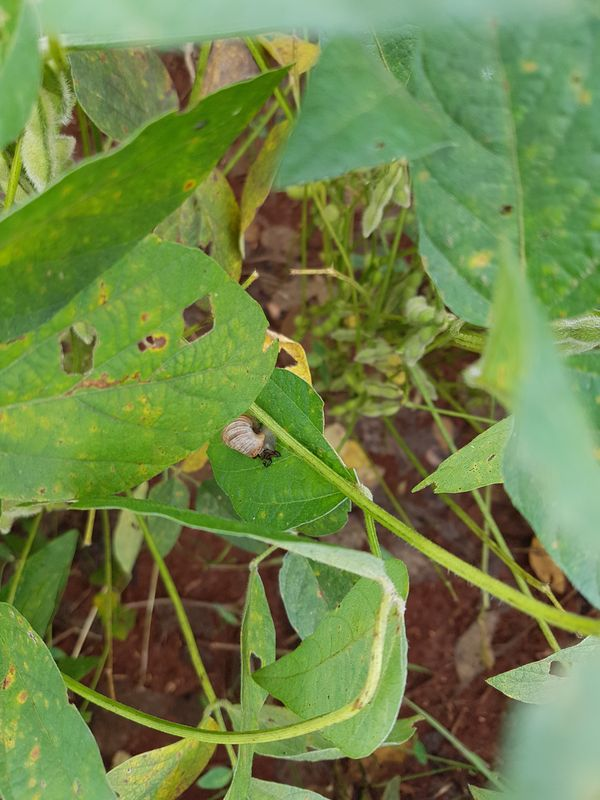Gastropoda: (215, 409, 286, 472)
